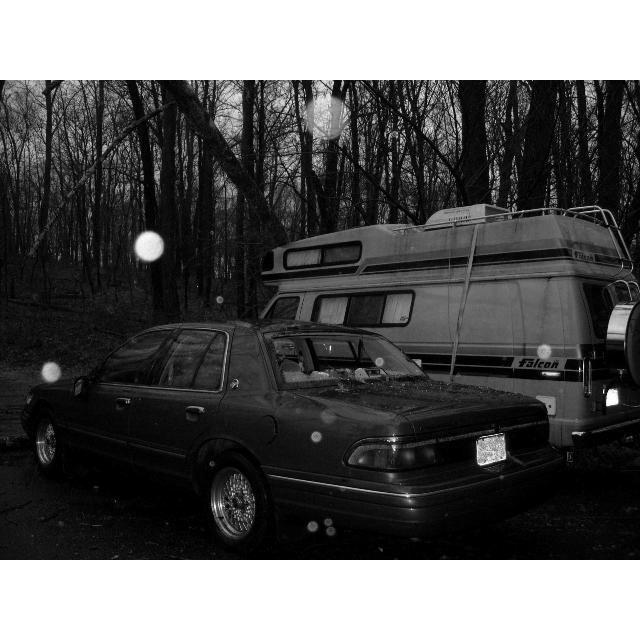Rear-windscreen-Damage: (257, 323, 417, 384)
